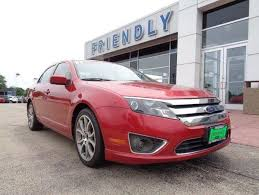Ford: (30, 60, 234, 166)
